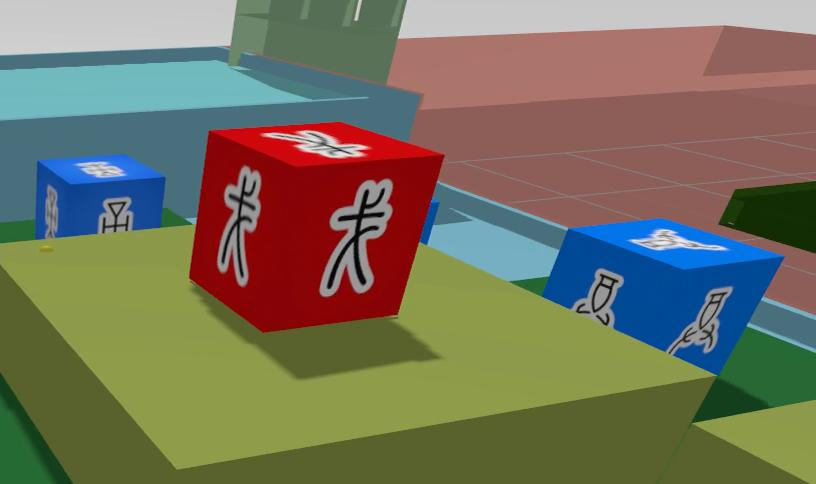KFS_FAKE: (191, 121, 443, 331), (320, 180, 392, 295), (217, 166, 260, 286)
KFS_REAL: (542, 219, 782, 374), (36, 155, 164, 238), (668, 287, 731, 354), (573, 270, 623, 326), (97, 197, 133, 233)
